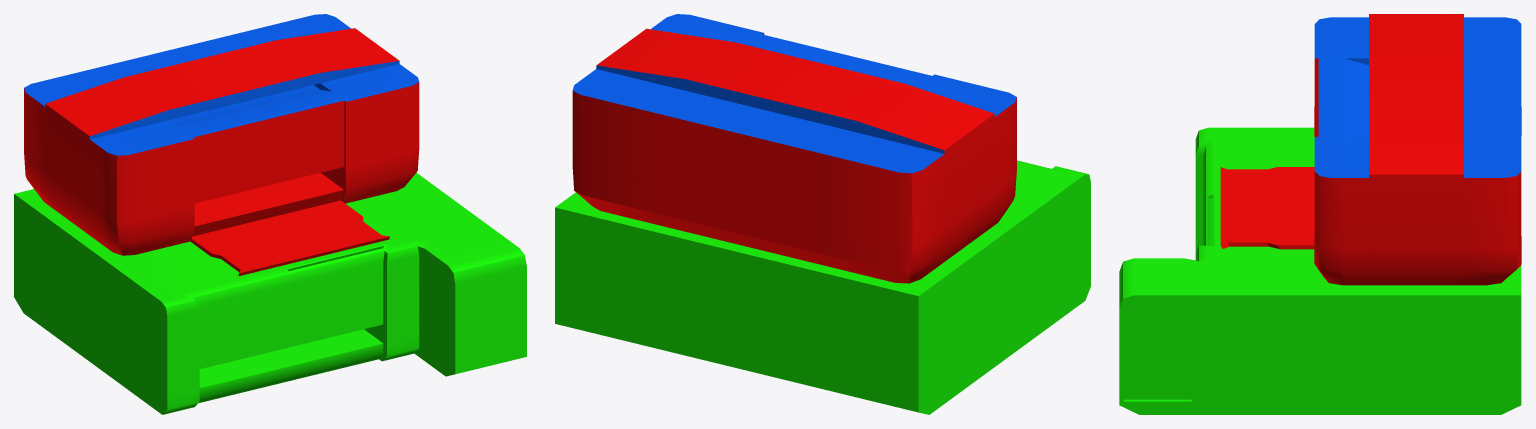
Rendered from hospital_fnt_impresora1.fbx.
3 renders of one model, left to right at view 1: azimuth 30°, elevation 25°; view 2: azimuth 150°, elevation 25°; view 3: azimuth 270°, elevation 25°, orthographic. The views are drawn at different scales.
Visible parts, largest first — view 1: hospital_fnt_impresora1; view 2: hospital_fnt_impresora1; view 3: hospital_fnt_impresora1.
Part boxes in pixels (x1,y1,x2,y2): hospital_fnt_impresora1: (14, 14, 526, 414); hospital_fnt_impresora1: (555, 14, 1090, 414); hospital_fnt_impresora1: (1119, 14, 1521, 414).
Bounding box in the file's own units: 48 × 32.43 × 48.65.
